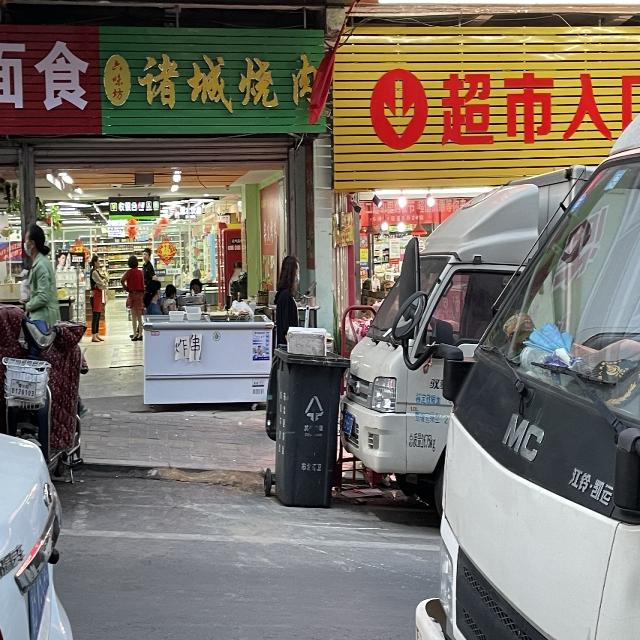overflow: (264, 325, 350, 508)
